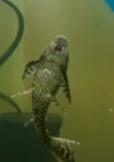Janitor Fish: (20, 35, 83, 162)
